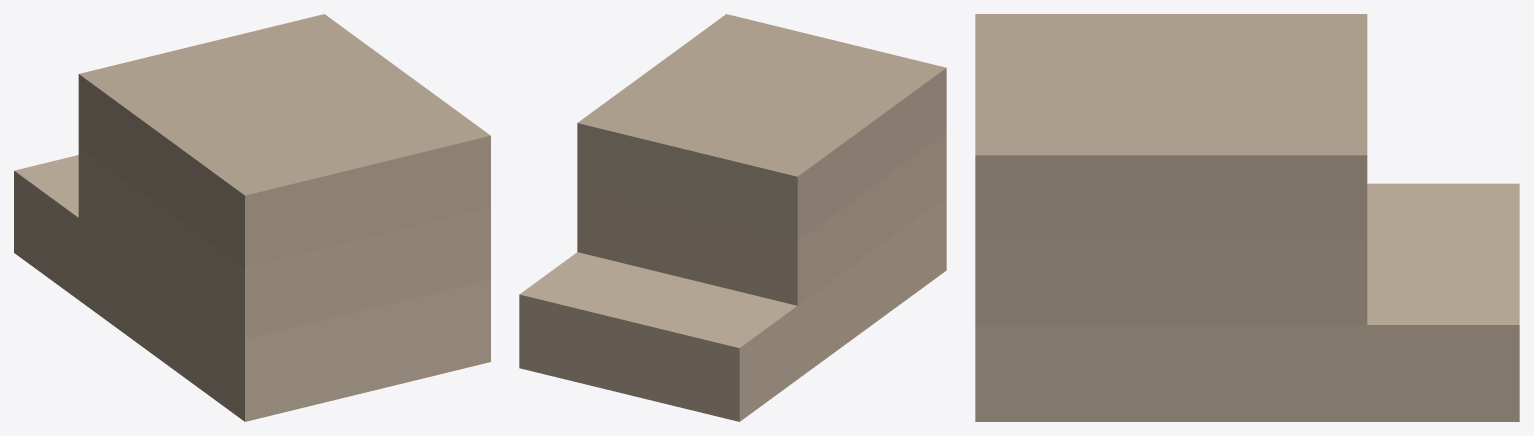
File: massing.glb
3 renders of one model, left to right at view 1: azimuth 30°, elevation 25°; view 2: azimuth 150°, elevation 25°; view 3: azimuth 270°, elevation 25°, orthographic. The views are drawn at different scales.
Parts seen in each view (by area): view 1: main/floor3/0, main/floor1/0, main/floor2/0; view 2: main/floor3/0, main/floor1/0, main/floor2/0; view 3: main/floor3/0, main/floor1/0, main/floor2/0.
Boxes of the visible parts, x1=… form: main/floor3/0: x1=78, y1=14, x2=490, y2=267; main/floor1/0: x1=14, y1=155, x2=490, y2=421; main/floor2/0: x1=78, y1=146, x2=490, y2=339; main/floor3/0: x1=577, y1=14, x2=946, y2=241; main/floor1/0: x1=519, y1=197, x2=946, y2=421; main/floor2/0: x1=577, y1=132, x2=946, y2=305; main/floor3/0: x1=975, y1=14, x2=1367, y2=240; main/floor1/0: x1=975, y1=183, x2=1519, y2=421; main/floor2/0: x1=975, y1=240, x2=1367, y2=324.
Size of the model in its own units: 10 by 8.8 by 16.27.
